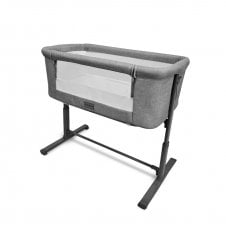crib: (40, 43, 189, 209)
